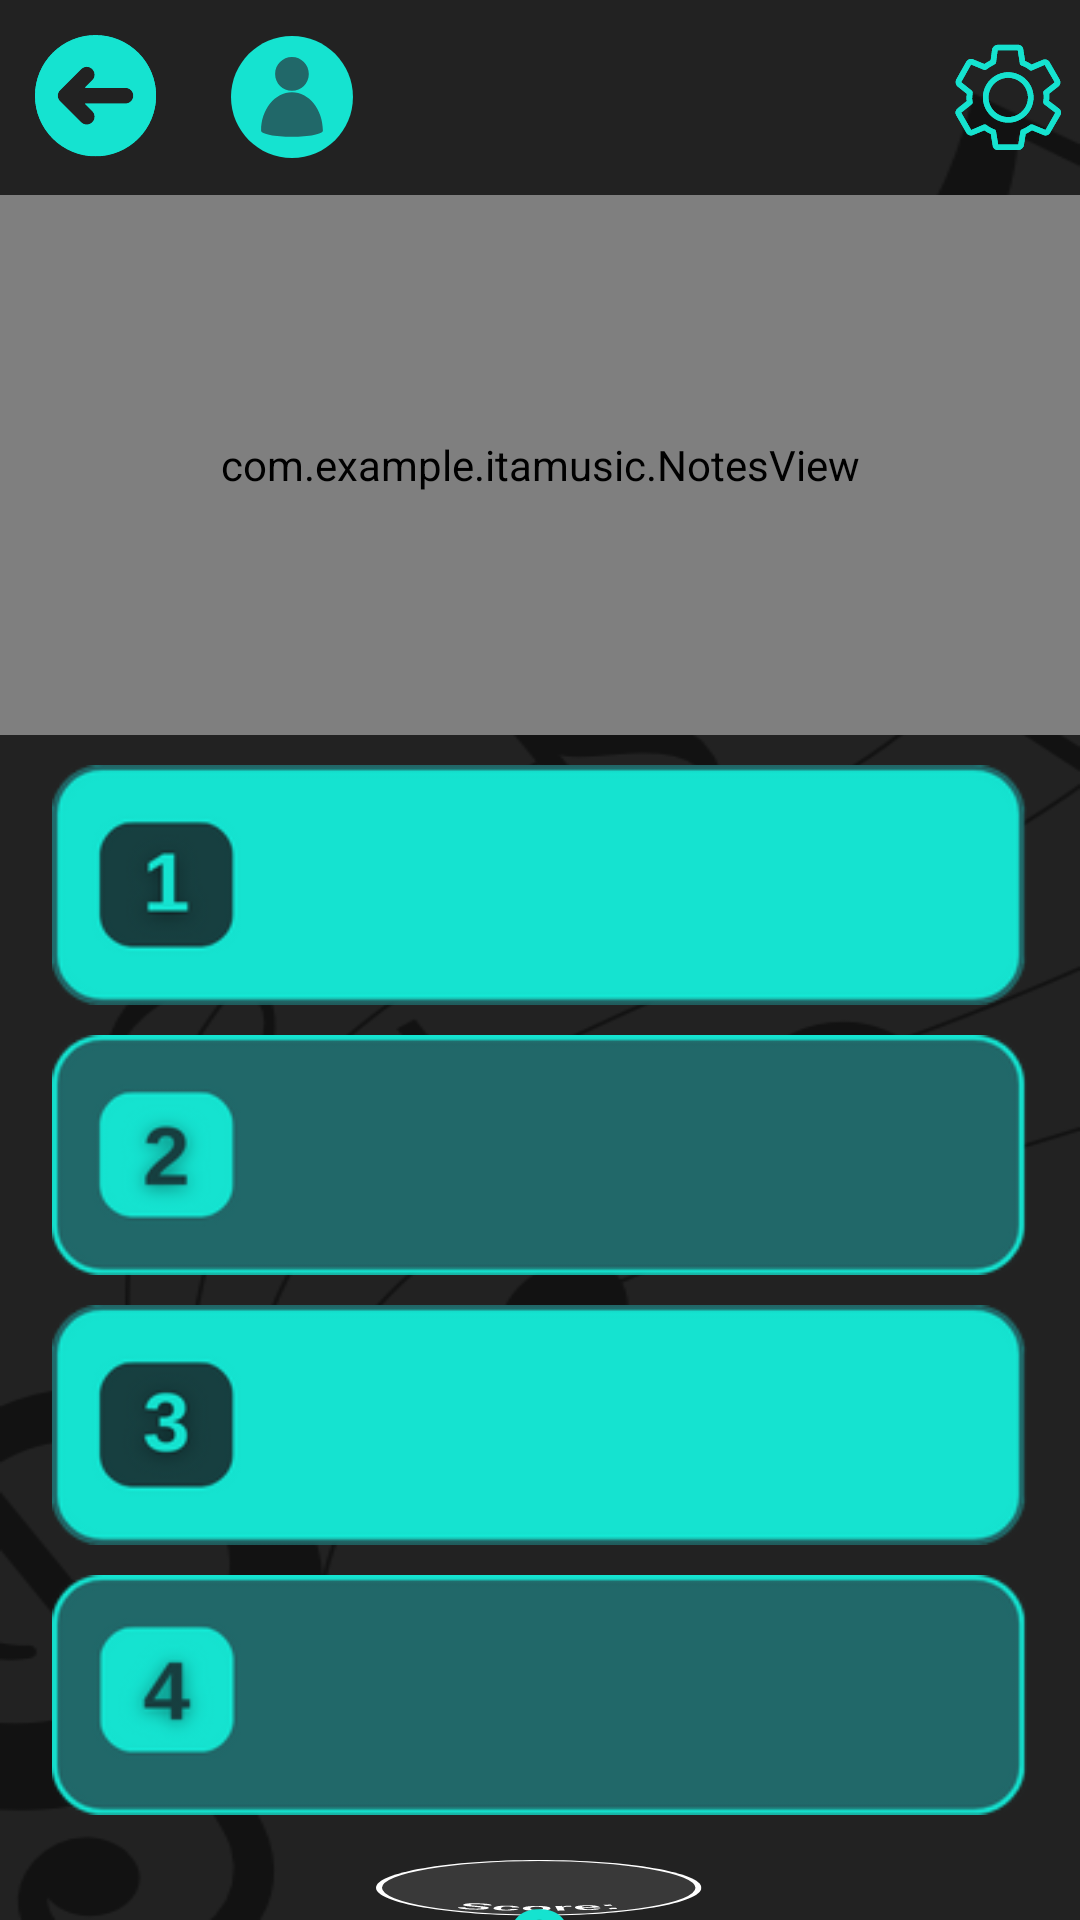

Screen size 1080 x 1920. Icon name, then its center in pixels as point (x, y):
back: point (95, 96)
profile: point (292, 97)
settings: point (1008, 97)
